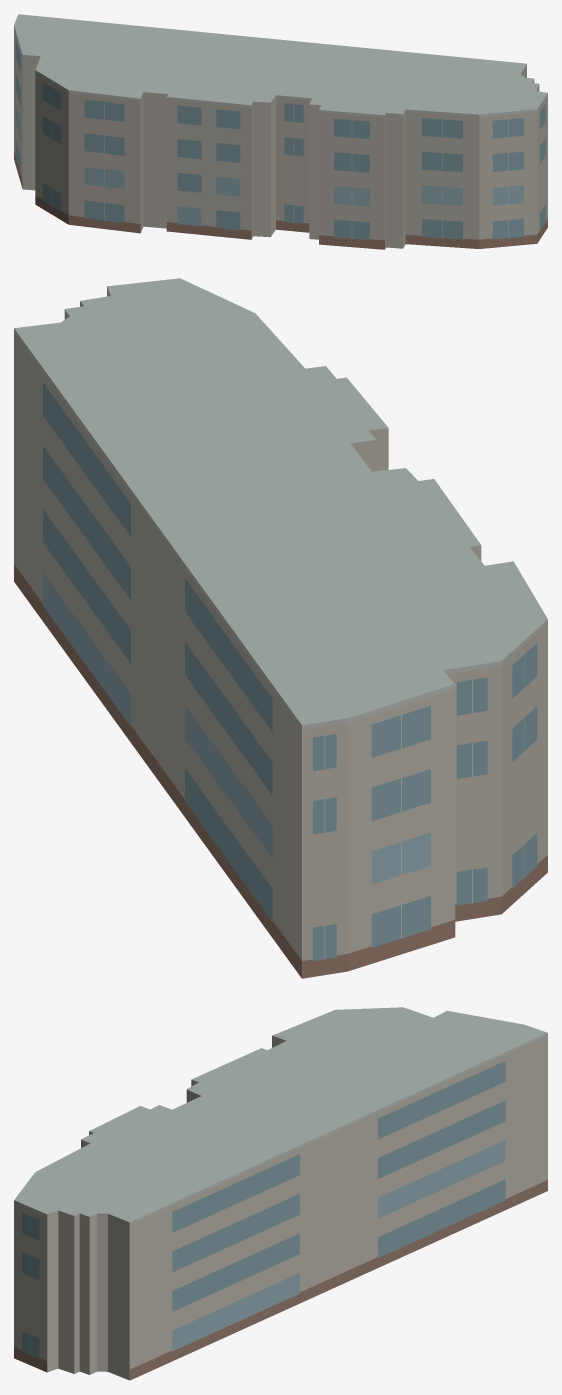
File: survey-upis-32712075.glb
3 views of the same model, one above another, from view 1: azimuth 30°, elevation 25°; view 2: azimuth 150°, elevation 25°; view 3: azimuth 270°, elevation 25° (orthographic). The views are drawn at different scales.
Visible parts, largest first — view 1: survey-upis-32712075.tmp; view 2: survey-upis-32712075.tmp; view 3: survey-upis-32712075.tmp.
Boxes of the visible parts, x1,y1,x2,y2 form: survey-upis-32712075.tmp: [14, 14, 547, 249]; survey-upis-32712075.tmp: [14, 278, 547, 978]; survey-upis-32712075.tmp: [14, 1007, 547, 1380].
Bounding box in the file's own units: 38.53 × 13.2 × 40.39.
